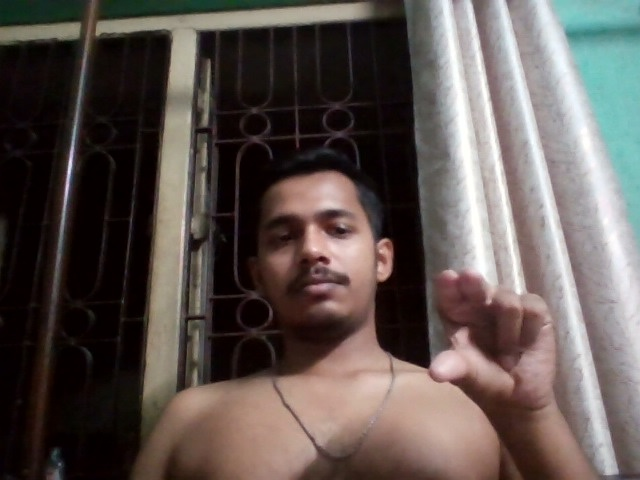No: (413, 244, 570, 411)
